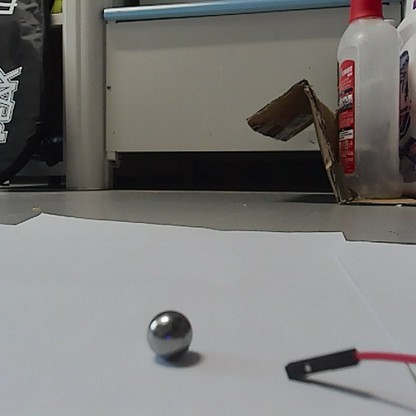ironball: (143, 306, 189, 358)
